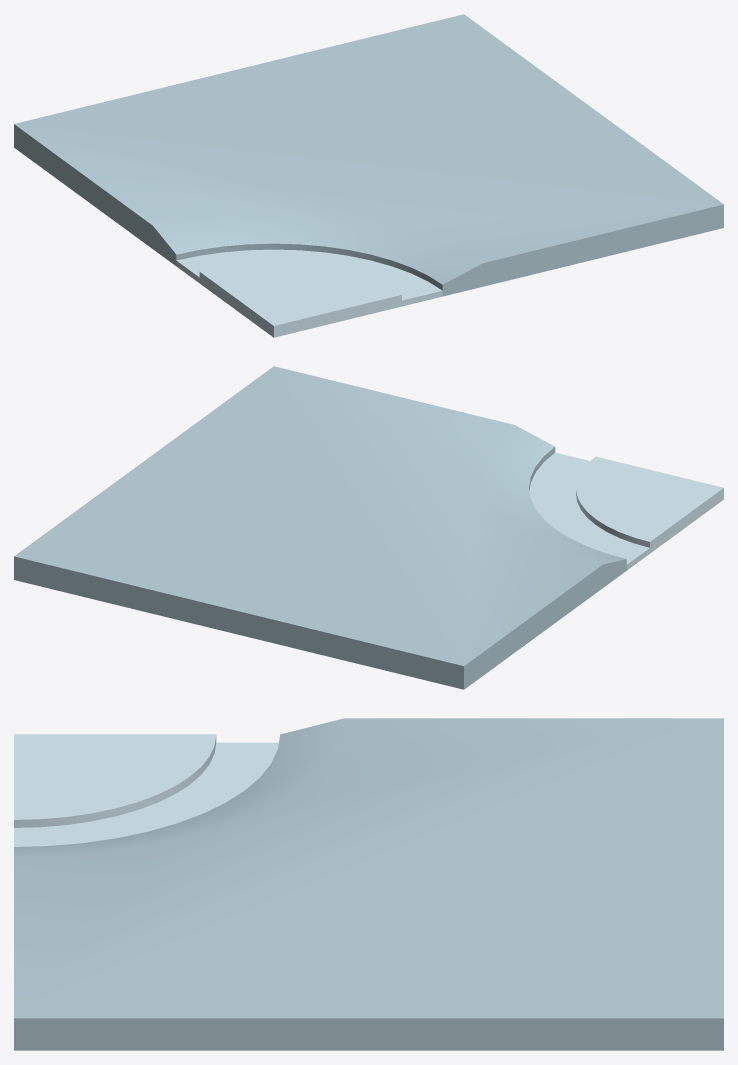
The picture shows the model from 3 angles, top to bottom: view 1: azimuth 30°, elevation 25°; view 2: azimuth 150°, elevation 25°; view 3: azimuth 270°, elevation 25°; orthographic projection. The views are drawn at different scales.
Parts seen in each view (by area): view 1: roadCornerInner; view 2: roadCornerInner; view 3: roadCornerInner.
Boxes of the visible parts, <box> form: roadCornerInner: <box>14,14,723,337</box>; roadCornerInner: <box>14,366,723,689</box>; roadCornerInner: <box>14,718,723,1050</box>.
Bounding box in the file's own units: 1 × 0.05 × 1.
